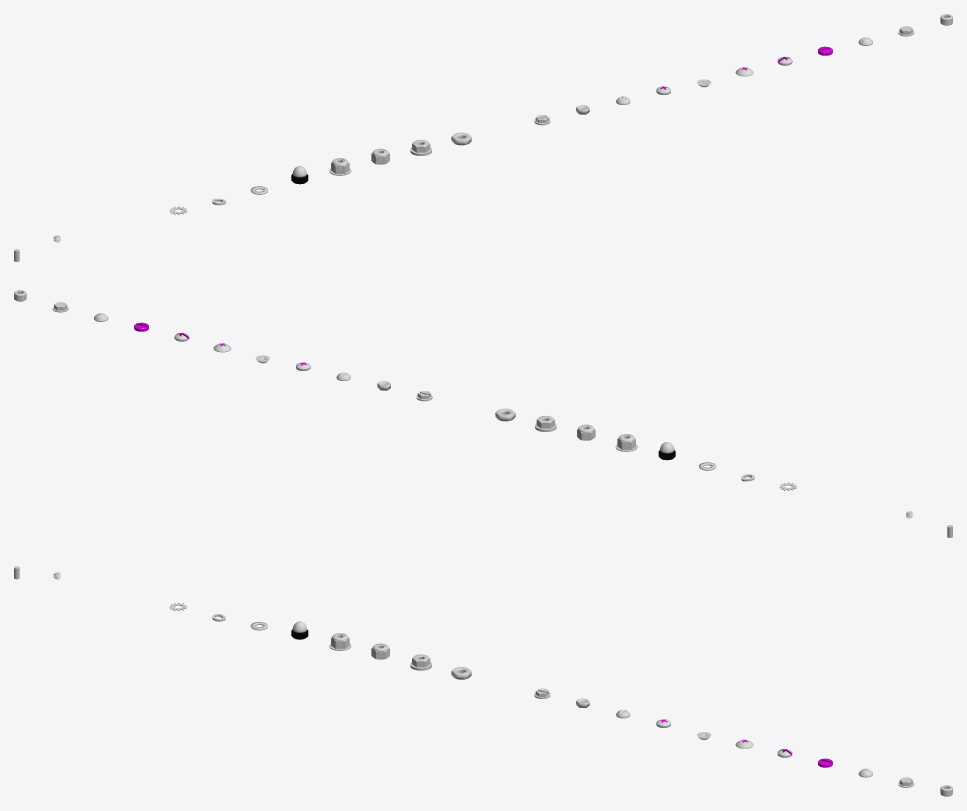
The model's file is Hardware 8-gauge.fbx.
3 views of the same model, one above another, from view 1: azimuth 30°, elevation 25°; view 2: azimuth 150°, elevation 25°; view 3: azimuth 330°, elevation 25° (orthographic).
Size of the model in its own units: 58.92 by 1.51 by 1.19.
